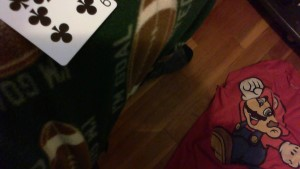NineOfClubs: (1, 1, 120, 69)
